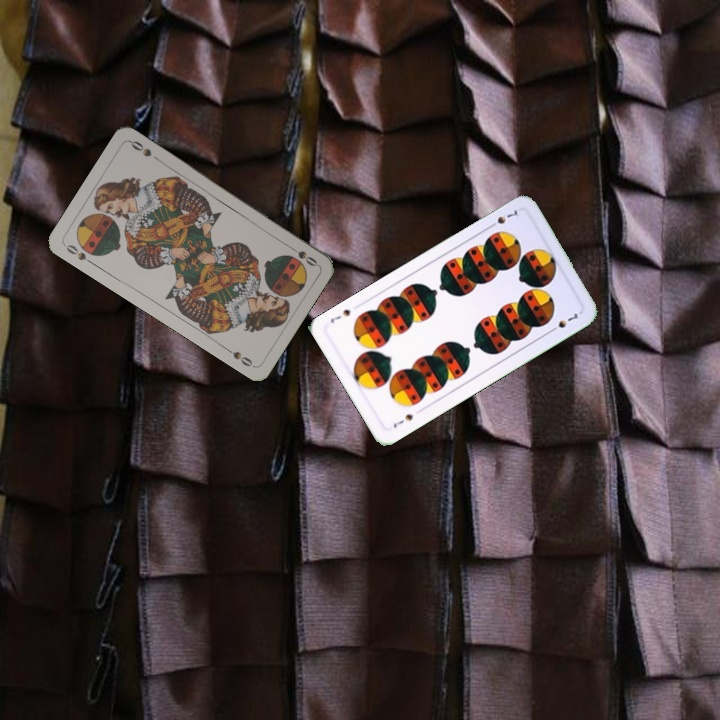S7: (484, 205, 520, 231), (389, 410, 416, 431)
SO: (284, 241, 320, 269), (60, 240, 97, 267)
